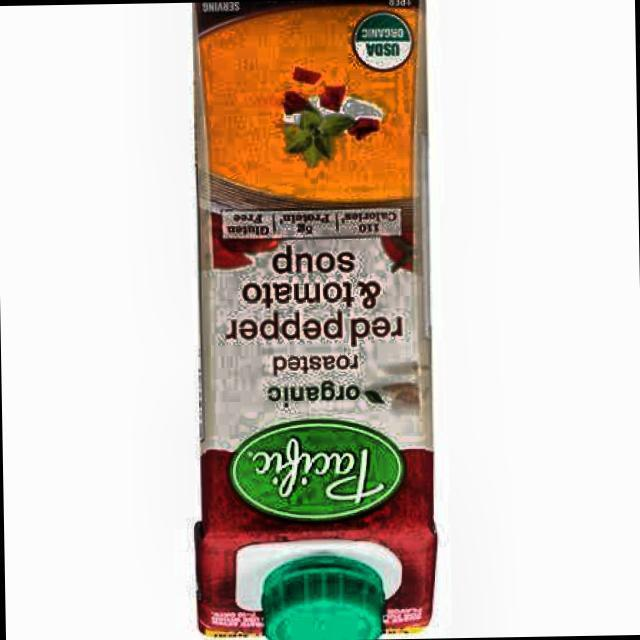cardboard: (184, 0, 441, 640)
